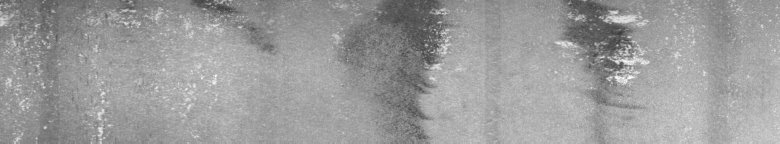hc: (555, 4, 649, 86)
